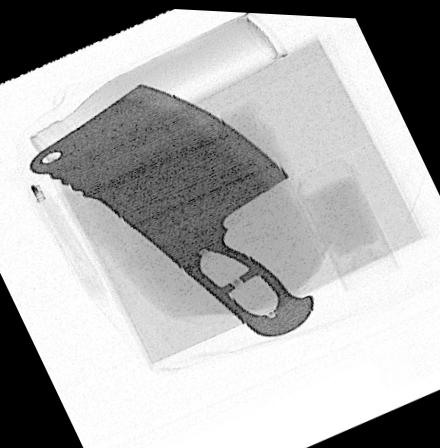Knife: (20, 81, 315, 335)
